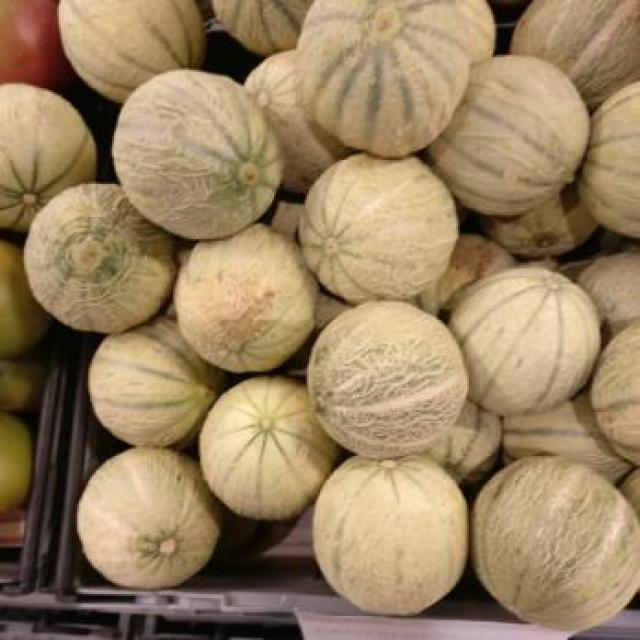Cantaloupe: (469, 460, 638, 636), (112, 70, 282, 241), (300, 0, 471, 158), (314, 458, 474, 616), (309, 300, 469, 454), (302, 154, 459, 302), (447, 55, 592, 215), (449, 265, 603, 412), (26, 184, 174, 331), (81, 451, 221, 588), (200, 378, 333, 518), (92, 320, 217, 447), (60, 0, 206, 99), (2, 85, 97, 232)
